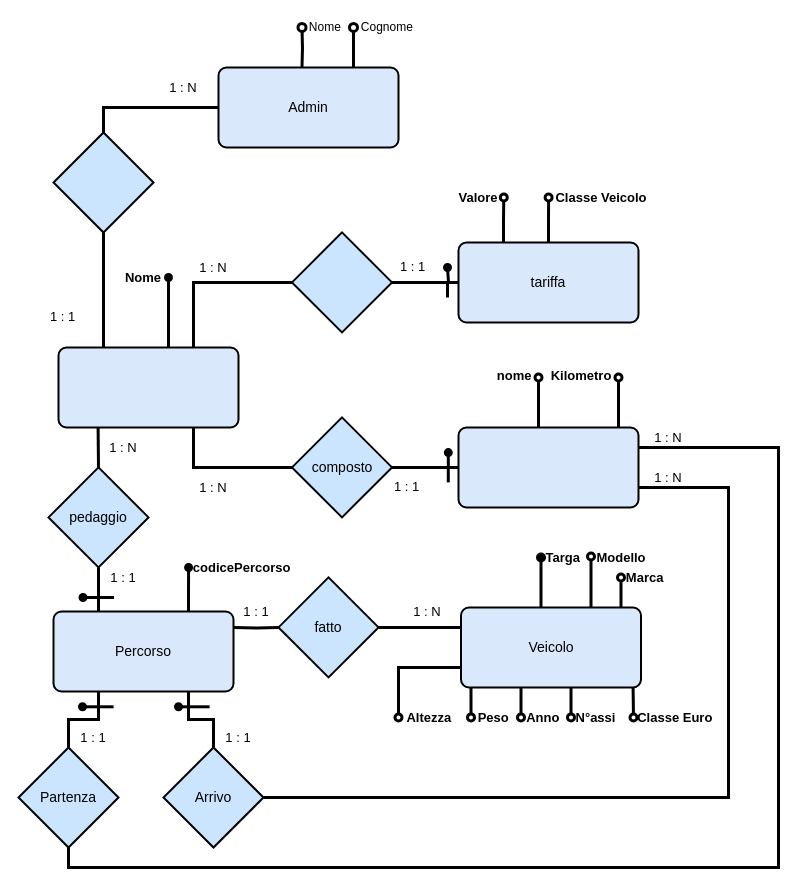
Image size: 798x888. Some labels were removed from this diagram. Each missing label, with the centre of its shape:
Autostrada: the point at 148,387
avere: the point at 341,282
Casello: the point at 548,467
gestisce: the point at 103,182
